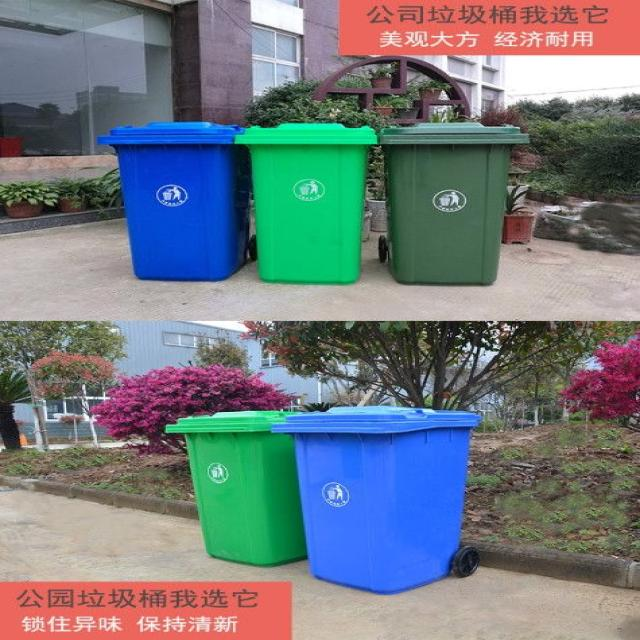garbage_bin: (269, 405, 477, 593), (377, 122, 528, 285), (96, 121, 248, 282), (233, 123, 376, 284), (165, 409, 308, 567)
